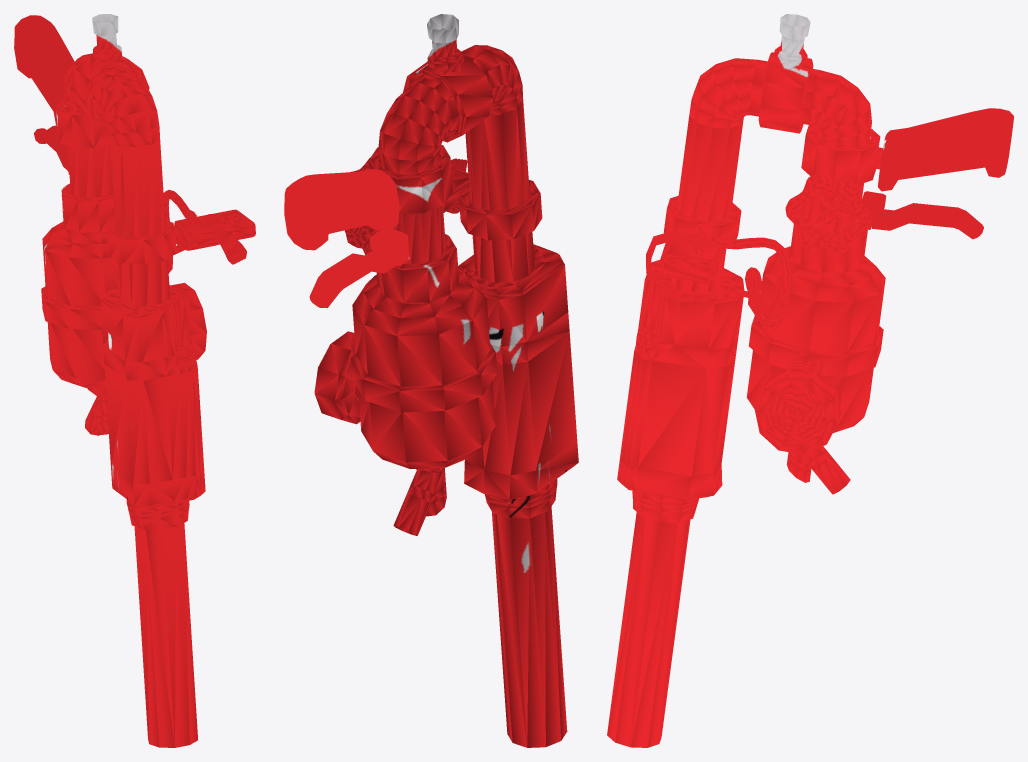
The model's file is char_spudgun_base_basic_geo.fbx.
3 views of the same model, side by side, from view 1: azimuth 30°, elevation 25°; view 2: azimuth 150°, elevation 25°; view 3: azimuth 270°, elevation 25° (orthographic). The views are drawn at different scales.
Visible parts, largest first — view 1: node_id11 (×2); view 2: node_id11 (×2); view 3: node_id11 (×2).
Boxes of the visible parts, x1,y1,x2,y2 form: node_id11 (×2): [14, 14, 255, 747]; node_id11 (×2): [284, 14, 578, 747]; node_id11 (×2): [607, 14, 1013, 747].
Bounding box in the file's own units: 0.2627 × 1.19 × 0.6065.
Materials: 2 (2 with a texture image).
